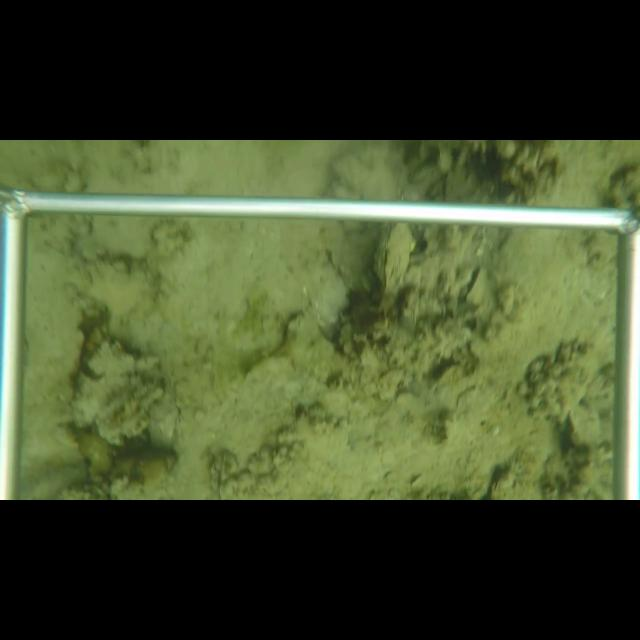Oyster-Closed: (371, 222, 416, 313)
Oyster-Open: (461, 266, 490, 306)
